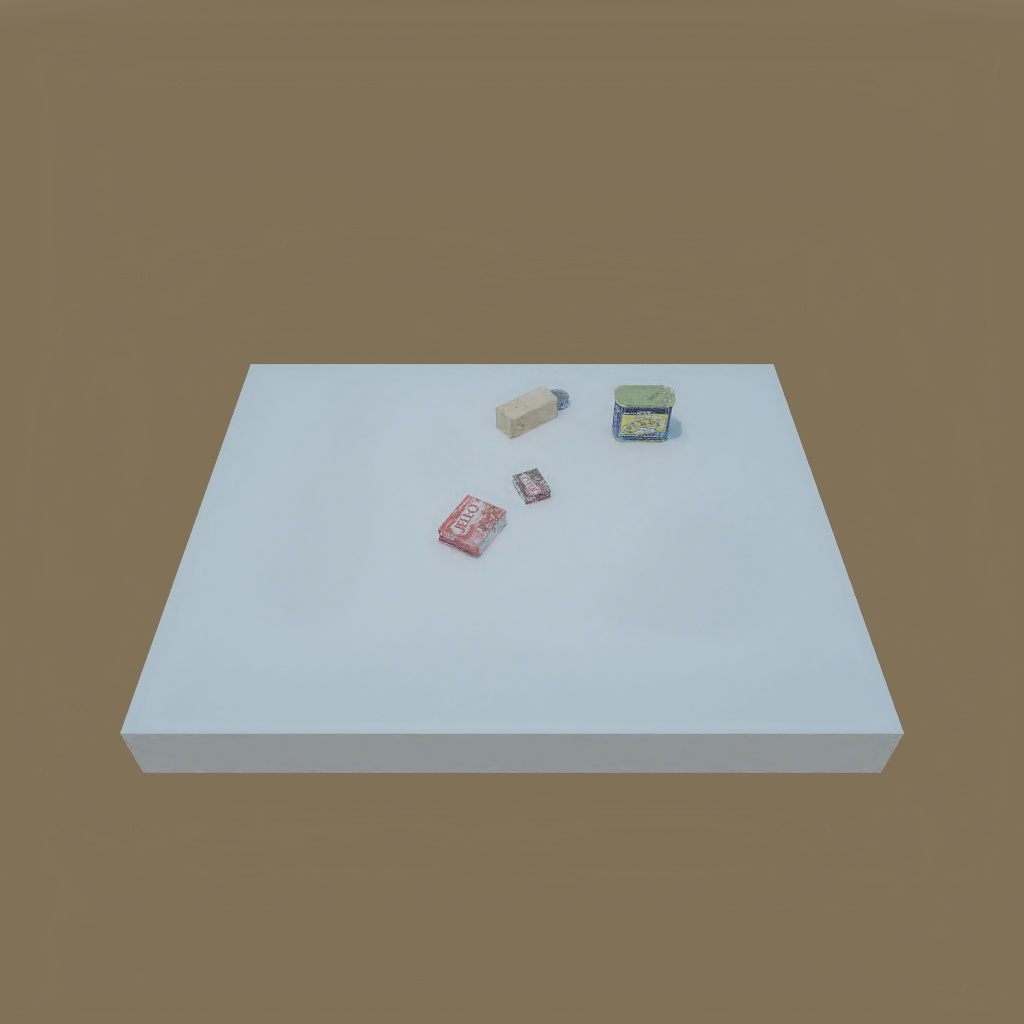gelatin_box: (433, 499, 507, 558)
potted_meat_can: (608, 384, 675, 445)
pudding_box: (510, 467, 552, 503)
wood_block: (498, 390, 555, 436)
